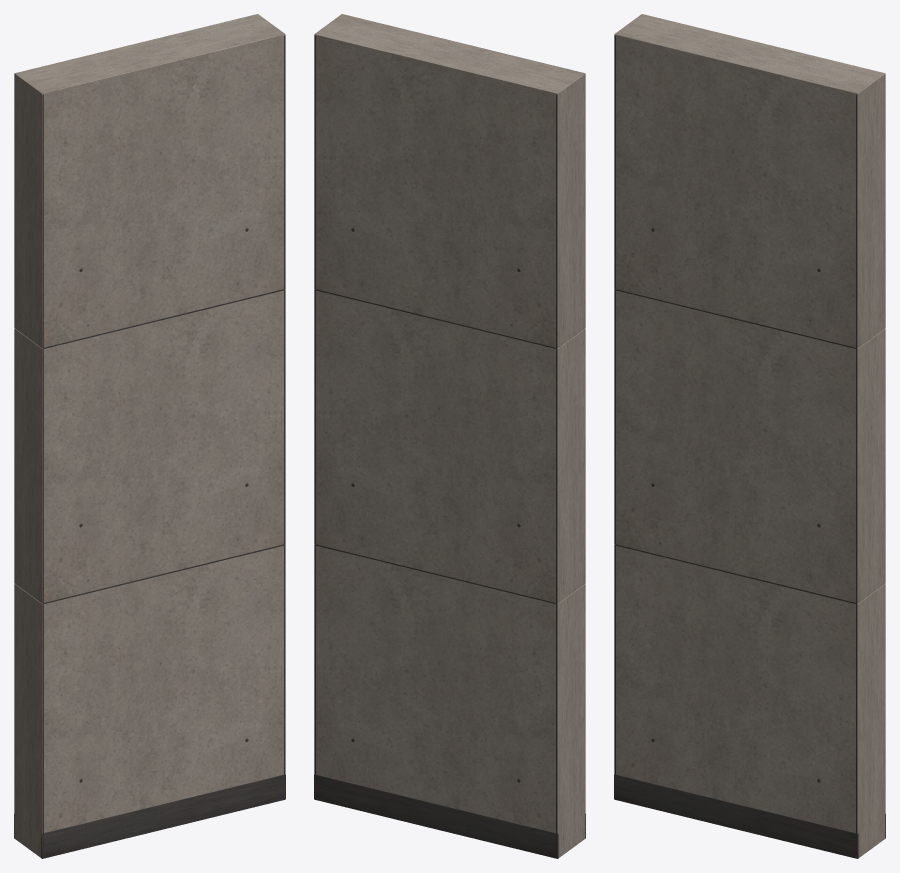
Rendered from SM_FacilityRooms_Wall100.fbx.
3 renders of one model, left to right at view 1: azimuth 30°, elevation 25°; view 2: azimuth 150°, elevation 25°; view 3: azimuth 330°, elevation 25°, orthographic.
Visible parts, largest first — view 1: SM_FacilityRooms_Wall100; view 2: SM_FacilityRooms_Wall100; view 3: SM_FacilityRooms_Wall100.
Boxes of the visible parts, x1,y1,x2,y2 form: SM_FacilityRooms_Wall100: (14,14,285,858); SM_FacilityRooms_Wall100: (314,14,585,858); SM_FacilityRooms_Wall100: (614,14,885,858).
Size of what is drawn, in the model's own units: 100 by 20 by 300.
